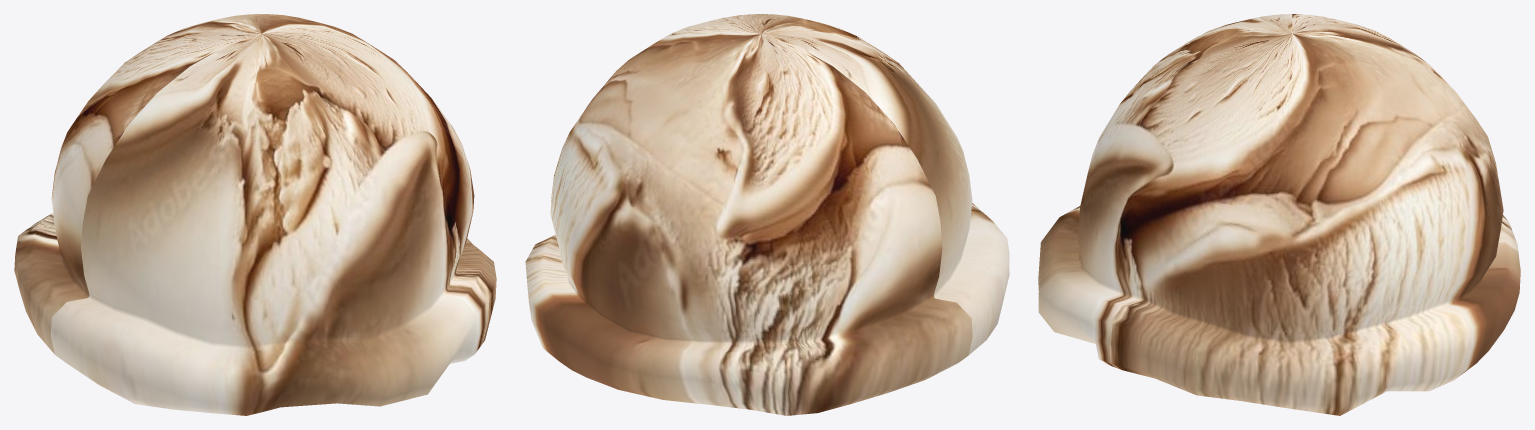
File: scoop-coffee.gltf
3 renders of one model, left to right at view 1: azimuth 30°, elevation 25°; view 2: azimuth 150°, elevation 25°; view 3: azimuth 270°, elevation 25°, orthographic. The views are drawn at different scales.
Visible parts, largest first — view 1: Scoop; view 2: Scoop; view 3: Scoop.
Boxes of the visible parts, x1,y1,x2,y2 form: Scoop: (14,14,496,415); Scoop: (525,14,1009,415); Scoop: (1038,14,1520,415).
Size of the model in its own units: 1.33 by 0.9831 by 1.38.
Materials: 1 (1 with a texture image).
